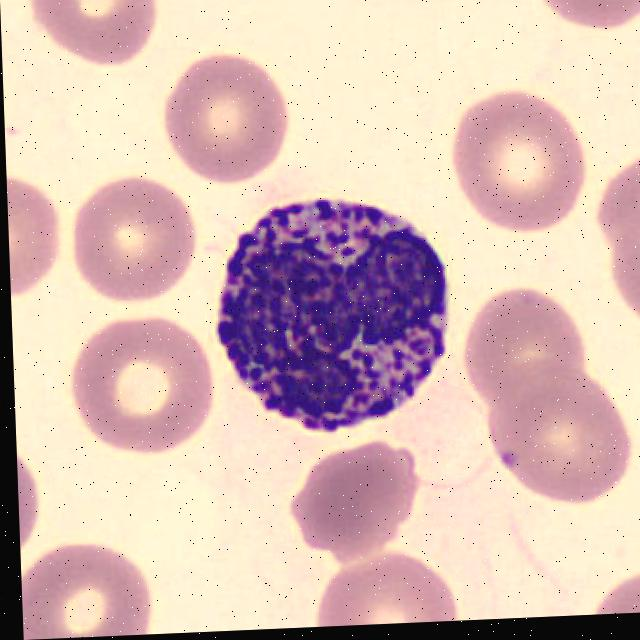basophil: (209, 191, 457, 434)
rbc: (59, 311, 229, 459), (494, 363, 637, 508), (444, 82, 578, 225), (160, 46, 290, 191), (68, 170, 201, 305), (279, 439, 428, 559), (462, 284, 591, 409), (20, 544, 167, 639), (297, 552, 469, 627), (24, 0, 161, 83), (6, 164, 66, 302), (531, 0, 640, 47), (606, 207, 640, 344), (595, 149, 640, 244), (16, 443, 45, 556), (583, 564, 640, 615)
